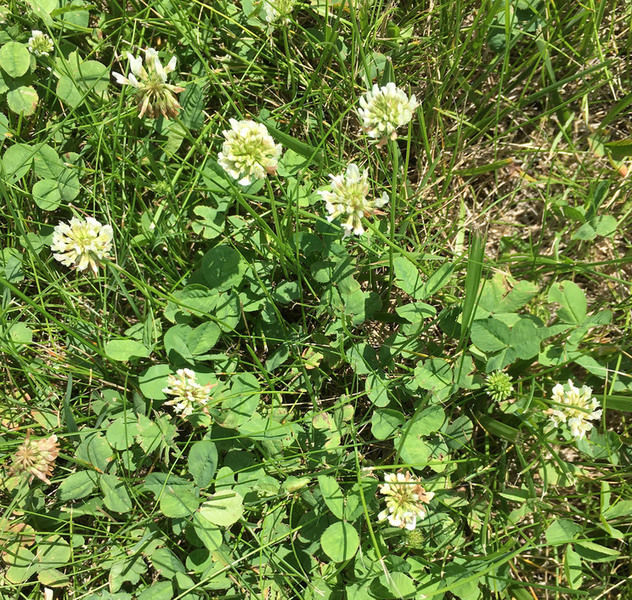clover: (4, 6, 628, 598)
